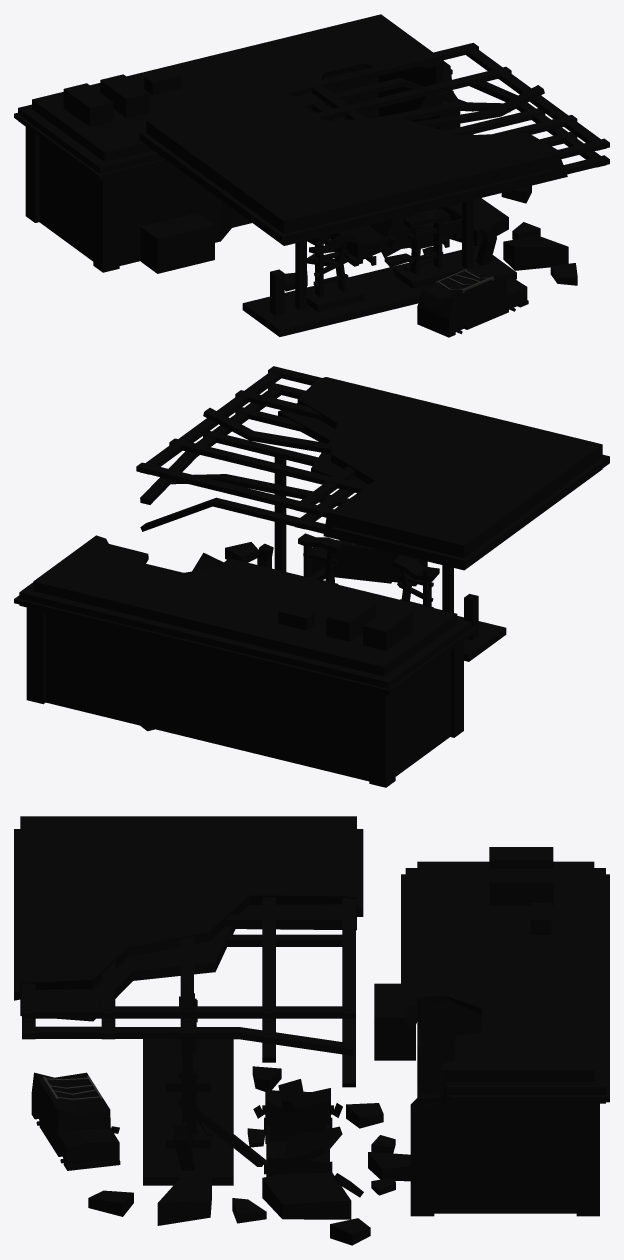
Rendered from SA_Bld_PetrolStation_Damaged_01.gltf.
3 views of the same model, one above another, from view 1: azimuth 30°, elevation 25°; view 2: azimuth 150°, elevation 25°; view 3: azimuth 270°, elevation 25° (orthographic). The views are drawn at different scales.
Parts seen in each view (by area): view 1: SA_Bld_PetrolStation_Damaged_01; view 2: SA_Bld_PetrolStation_Damaged_01; view 3: SA_Bld_PetrolStation_Damaged_01.
Part boxes in pixels (<box>): SA_Bld_PetrolStation_Damaged_01: <box>14,14,609,337</box>; SA_Bld_PetrolStation_Damaged_01: <box>14,366,609,787</box>; SA_Bld_PetrolStation_Damaged_01: <box>14,816,609,1245</box>.
Bounding box in the file's own units: 24.83 × 10.17 × 25.37.
Materials: 1 (1 with a texture image).
